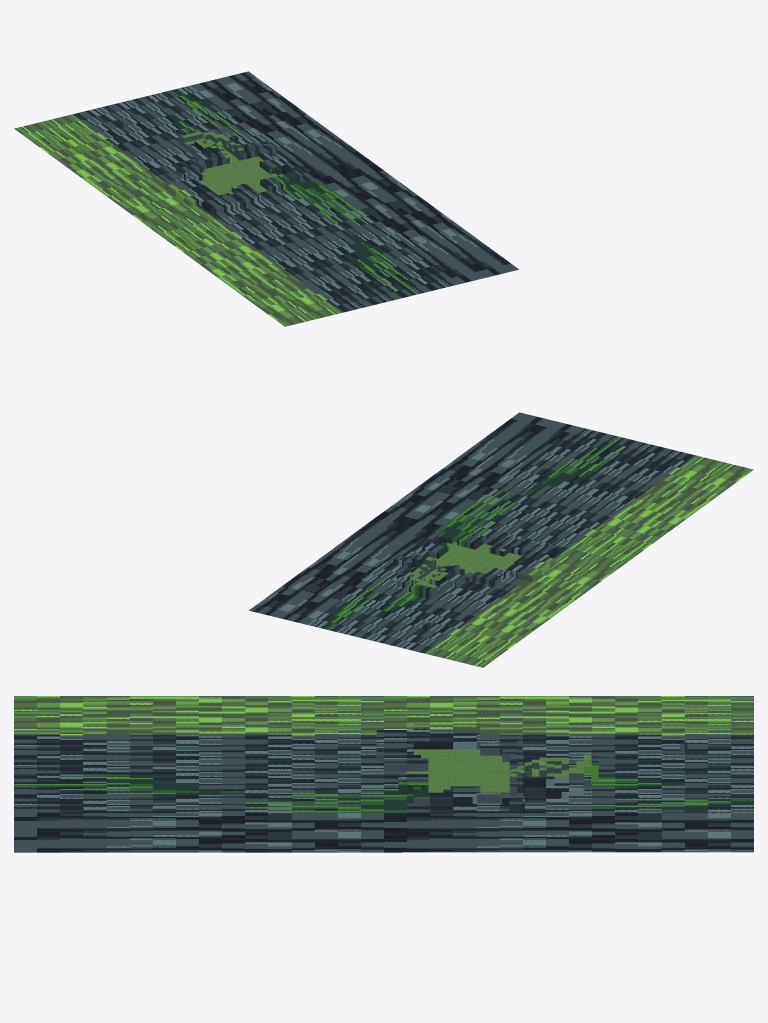
Rendered from delver-study-tarraining.glb.
The picture shows the model from 3 angles, top to bottom: view 1: azimuth 30°, elevation 25°; view 2: azimuth 150°, elevation 25°; view 3: azimuth 270°, elevation 25°; orthographic projection. The views are drawn at different scales.
Visible parts, largest first — view 1: Plane; view 2: Plane; view 3: Plane.
Boxes of the visible parts, <box> form: Plane: <box>14,71,518,326</box>; Plane: <box>249,412,753,667</box>; Plane: <box>14,696,753,852</box>.
Size of the model in its own units: 100 by 2.69 by 100.
Materials: 1 (1 with a texture image).
